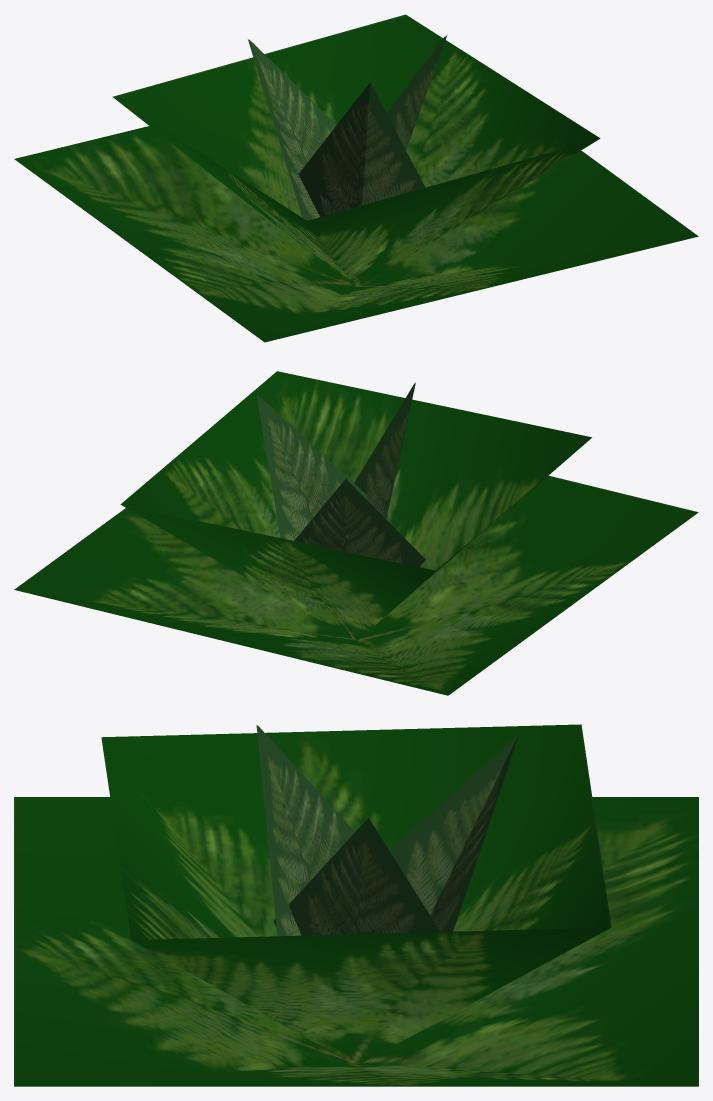
Rendered from fern_groundfern_l1.fbx.
The picture shows the model from 3 angles, top to bottom: view 1: azimuth 30°, elevation 25°; view 2: azimuth 150°, elevation 25°; view 3: azimuth 270°, elevation 25°; orthographic projection. The views are drawn at different scales.
Visible parts, largest first — view 1: mesh_node; view 2: mesh_node; view 3: mesh_node.
Part boxes in pixels (x1=…): mesh_node: x1=14, y1=14, x2=698, y2=342; mesh_node: x1=14, y1=371, x2=698, y2=695; mesh_node: x1=14, y1=724, x2=698, y2=1086.
Bounding box in the file's own units: 1.3 × 0.6857 × 1.3.
Materials: 1 (1 with a texture image).
